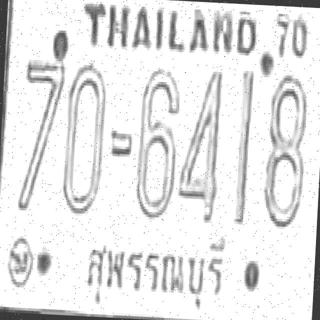N00: (60, 60, 108, 216)
N01: (232, 66, 255, 226)
N04: (176, 65, 224, 223)
N06: (133, 65, 181, 221)
N07: (16, 51, 67, 212)
N08: (261, 74, 309, 229)
P66: (75, 224, 236, 320)
